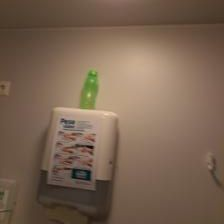bottle: (75, 64, 101, 114)
